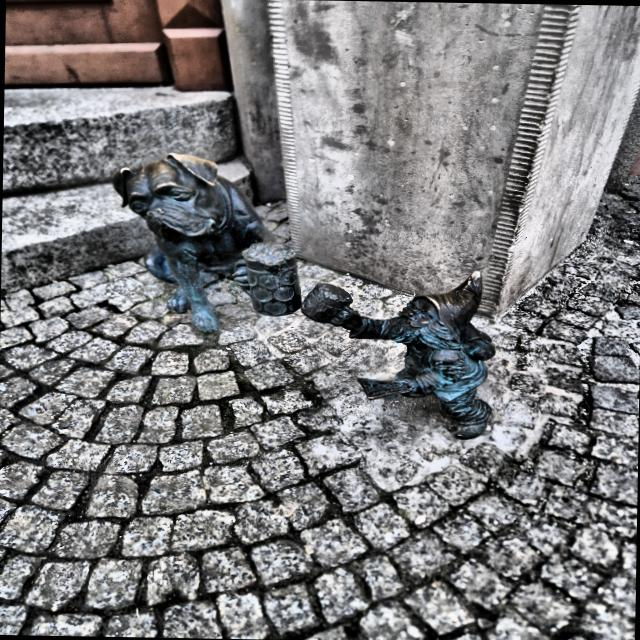Piwozlopek_ i_Piesel_Piwosz: (114, 154, 302, 332), (302, 271, 495, 439)
